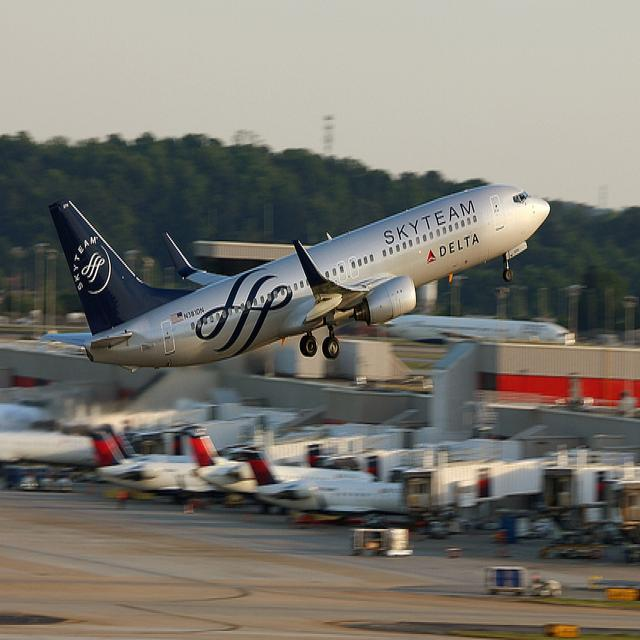airplane: (38, 182, 552, 375)
